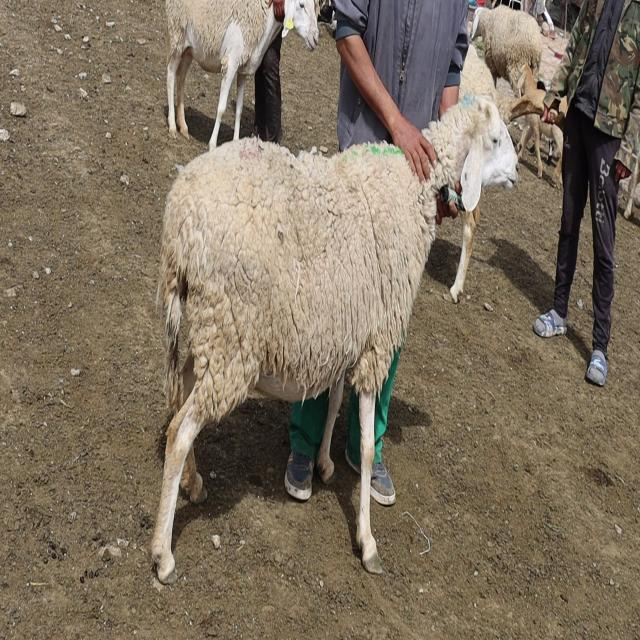Score_4: (151, 95, 518, 582)
